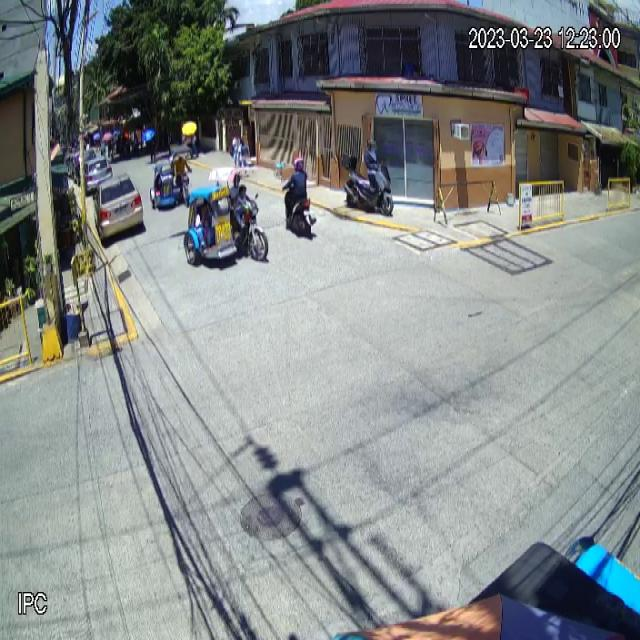Motorcycle: (341, 151, 394, 216)
Tricycle: (183, 167, 269, 265)
